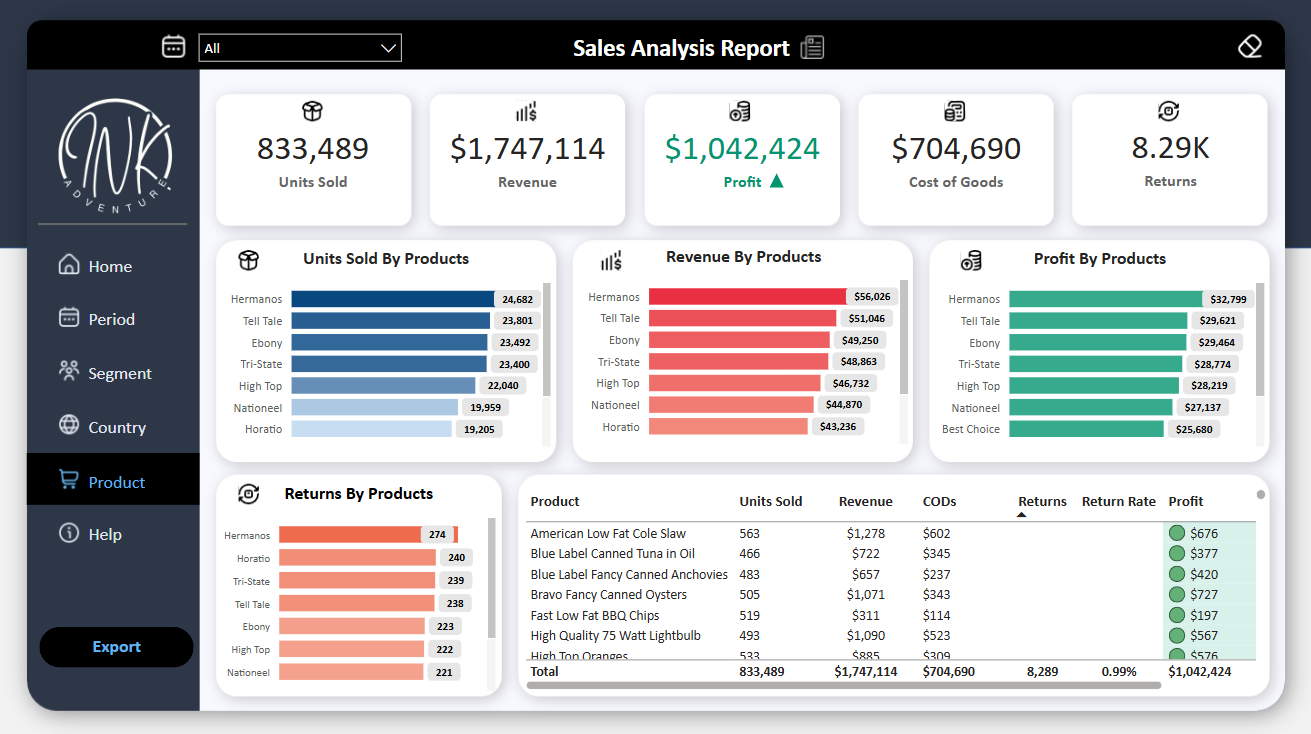

What the dashboard file says about the page in this screenshot:
{"tool":"powerbi","page":{"name":"Main page","canvas":[1280,720],"ordinal":0},"visuals":[{"type":"group","id":"g1","title":"Static grouping","box":[0,24.2,1236.4,474.7],"z":0},{"type":"card","title":"Unit Sold","fields":{"Values":["Measure.Quantity Sold"]},"box":[212.1,115.4,190.4,76.5],"z":0,"group":"g1"},{"type":"shape","box":[1142.4,242.9,88.2,24.6],"z":0,"group":"g4"},{"type":"actionButton","title":"Help","box":[28,495,168,50],"z":0,"group":"g2"},{"type":"card","title":"Revenue","fields":{"Values":["Measure.Total_revenue"]},"box":[420.2,115.9,191.8,76],"z":1000,"group":"g1"},{"type":"card","fields":{"Values":["Measure.YOY-profit_format"]},"box":[1139.5,235,86.8,41.9],"z":1000,"group":"g4"},{"type":"actionButton","title":"product","box":[28,442.8,167.8,49.8],"z":1000,"group":"g2"},{"type":"actionButton","title":"Export","box":[39.8,611.6,150.8,39.8],"z":1000},{"type":"card","title":"Profit","fields":{"Values":["Measure.Total-profit"]},"box":[629.7,115.1,189.2,76.8],"z":2000,"group":"g1"},{"type":"group","id":"g2","title":"Inactive buttons","box":[28,234,168,311],"z":2000},{"type":"actionButton","title":"Country","box":[28,390.7,167.8,49.8],"z":2000,"group":"g2"},{"type":"tableEx","title":"Period Table","fields":{"Values":["Calendar.month_year","Measure.Quantity Sold","Measure.Total_revenue","Measure.Total_cost","Measure.Total_returns","Measure.return_rate","Measure.Total-profit","Measure.Profit_margin"]},"box":[507,473,731,205.3],"z":2000,"group":"g4"},{"type":"card","title":"Total Returns","fields":{"Values":["Measure.Total_returns"]},"box":[1046,114,190.4,77.9],"z":3000,"group":"g1"},{"type":"group","id":"g3","title":"Active buttons","box":[28,234,169.1,311.6],"z":3000},{"type":"areaChart","title":"Profit By Period","fields":{"Category":["Calendar.Year","Calendar.Start of Month","Calendar.Start of Week","Calendar.Quarter"],"Y":["Measure.Total-profit"]},"box":[906.1,242.4,330.4,199.1],"z":3000,"group":"g4"},{"type":"actionButton","title":"Segment","box":[28,338.5,167.8,49.8],"z":3000,"group":"g2"},{"type":"slicer","fields":{"Values":["Calendar.Year"]},"box":[185.1,24.6,218.3,43.4],"z":4000},{"type":"card","title":"Total Cost","fields":{"Values":["Measure.Total_Cost"]},"box":[836.5,115.9,191.8,76],"z":4000,"group":"g1"},{"type":"actionButton","title":"Period","box":[28,286.4,167.8,49.8],"z":4000,"group":"g2"},{"type":"actionButton","title":"Active Period","box":[28,286.4,169.1,51.6],"z":4000,"group":"g3"},{"type":"areaChart","title":"Returns By Period","fields":{"Category":["Calendar.Year","Calendar.Start of Month","Calendar.Start of Week"],"Y":["Measure.Total_returns"]},"box":[212.6,467.1,276.2,208.2],"z":4000,"group":"g4"},{"type":"image","box":[0,24.2,230.4,260.3],"z":5000,"group":"g1"},{"type":"actionButton","box":[154.4,30.3,33.2,31.7],"z":5000},{"type":"actionButton","title":"Home","box":[28,234,168,50],"z":5000,"group":"g2"},{"type":"areaChart","title":"Revenue By Period","fields":{"Category":["Calendar.Year","Calendar.Start of Month","Calendar.Start of Week","Calendar.Quarter"],"Y":["Measure.Total_revenue"]},"box":[559.6,240,329.7,199.6],"z":5000,"group":"g4"},{"type":"shape","box":[38.6,203.9,146,31.4],"z":6000,"group":"g1"},{"type":"areaChart","title":"Units Sold By Period","fields":{"Category":["Calendar.Year","Calendar.Start of Month","Calendar.Start of Week","Calendar.Quarter"],"Y":["Measure.Quantity Sold"]},"box":[212.6,242.9,329.7,199.6],"z":6000,"group":"g4"},{"type":"actionButton","box":[291.4,93.8,32,32],"z":7000,"group":"g1"},{"type":"actionButton","box":[499.9,93.8,32,32],"z":8000,"group":"g1"},{"type":"actionButton","box":[708.4,93.8,32,32],"z":9000,"group":"g1"},{"type":"group","id":"g4","title":"Period View","box":[212.6,235,1025.4,443.3],"z":9000},{"type":"textbox","title":"report name","box":[554,27.4,246.7,40.4],"z":10000,"group":"g1"},{"type":"actionButton","box":[776.2,24.5,49.1,47.6],"z":11000},{"type":"actionButton","box":[916.9,93.8,32,32],"z":11000,"group":"g1"},{"type":"actionButton","box":[1201.6,22.9,48.3,47.1],"z":12000},{"type":"actionButton","box":[1125.4,93.8,32,32],"z":12000,"group":"g1"},{"type":"shape","box":[750.5,170.7,14.5,14.5],"z":13000,"group":"g1"},{"type":"actionButton","box":[229.9,240.1,33.3,31.8],"z":14000,"group":"g1"},{"type":"actionButton","box":[582,240.1,31.8,31.8],"z":15000,"group":"g1"},{"type":"actionButton","box":[932.7,240.1,31.8,31.8],"z":16000,"group":"g1"},{"type":"actionButton","box":[229.9,467.1,31.8,31.8],"z":17000,"group":"g1"}]}

Visuals, with their boxes on the page's 1280x720 design canvas (x1, y1, x2, y2). These are canvas units, not pixel positions in the 1311x734 screenshot, which may show the page scaled, cropped or inside an application window:
"Static grouping" group: <bbox>0, 24, 1236, 499</bbox>
"Unit Sold" card: <bbox>212, 115, 402, 192</bbox>
shape: <bbox>1142, 243, 1231, 268</bbox>
"Help" actionButton: <bbox>28, 495, 196, 545</bbox>
"Revenue" card: <bbox>420, 116, 612, 192</bbox>
card - Measure.YOY-profit_format: <bbox>1140, 235, 1226, 277</bbox>
"product" actionButton: <bbox>28, 443, 196, 493</bbox>
"Export" actionButton: <bbox>40, 612, 191, 651</bbox>
"Profit" card: <bbox>630, 115, 819, 192</bbox>
"Inactive buttons" group: <bbox>28, 234, 196, 545</bbox>
"Country" actionButton: <bbox>28, 391, 196, 440</bbox>
"Period Table" tableEx: <bbox>507, 473, 1238, 678</bbox>
"Total Returns" card: <bbox>1046, 114, 1236, 192</bbox>
"Active buttons" group: <bbox>28, 234, 197, 546</bbox>
"Profit By Period" areaChart: <bbox>906, 242, 1236, 442</bbox>
"Segment" actionButton: <bbox>28, 338, 196, 388</bbox>
slicer - Calendar.Year: <bbox>185, 25, 403, 68</bbox>
"Total Cost" card: <bbox>836, 116, 1028, 192</bbox>
"Period" actionButton: <bbox>28, 286, 196, 336</bbox>
"Active Period" actionButton: <bbox>28, 286, 197, 338</bbox>
"Returns By Period" areaChart: <bbox>213, 467, 489, 675</bbox>
image: <bbox>0, 24, 230, 284</bbox>
actionButton: <bbox>154, 30, 188, 62</bbox>
"Home" actionButton: <bbox>28, 234, 196, 284</bbox>
"Revenue By Period" areaChart: <bbox>560, 240, 889, 440</bbox>
shape: <bbox>39, 204, 185, 235</bbox>
"Units Sold By Period" areaChart: <bbox>213, 243, 542, 442</bbox>
actionButton: <bbox>291, 94, 323, 126</bbox>
actionButton: <bbox>500, 94, 532, 126</bbox>
actionButton: <bbox>708, 94, 740, 126</bbox>
"Period View" group: <bbox>213, 235, 1238, 678</bbox>
"report name" textbox: <bbox>554, 27, 801, 68</bbox>
actionButton: <bbox>776, 24, 825, 72</bbox>
actionButton: <bbox>917, 94, 949, 126</bbox>
actionButton: <bbox>1202, 23, 1250, 70</bbox>
actionButton: <bbox>1125, 94, 1157, 126</bbox>
shape: <bbox>750, 171, 765, 185</bbox>
actionButton: <bbox>230, 240, 263, 272</bbox>
actionButton: <bbox>582, 240, 614, 272</bbox>
actionButton: <bbox>933, 240, 964, 272</bbox>
actionButton: <bbox>230, 467, 262, 499</bbox>
